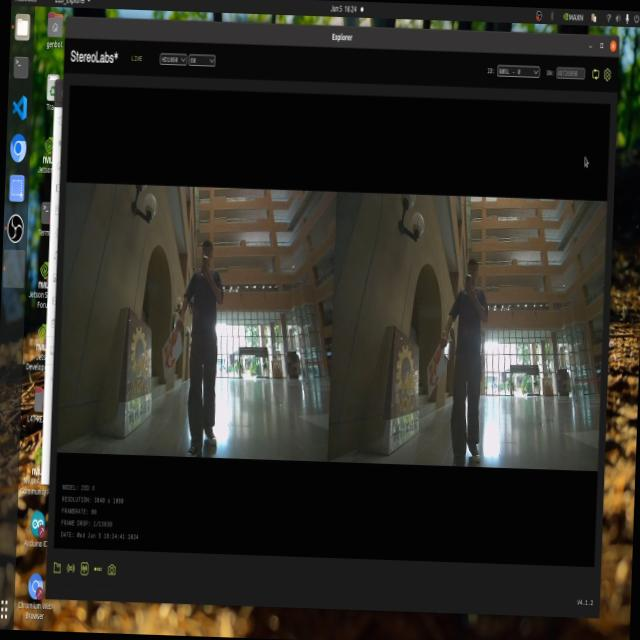red: (422, 342, 447, 394), (162, 330, 175, 364)
